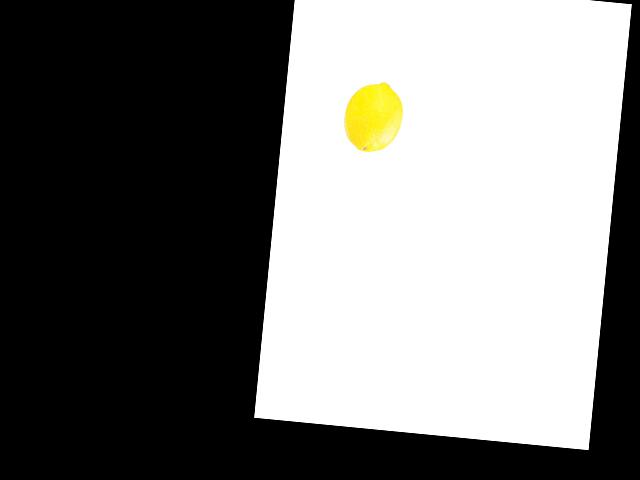lemon: (340, 77, 408, 156)
